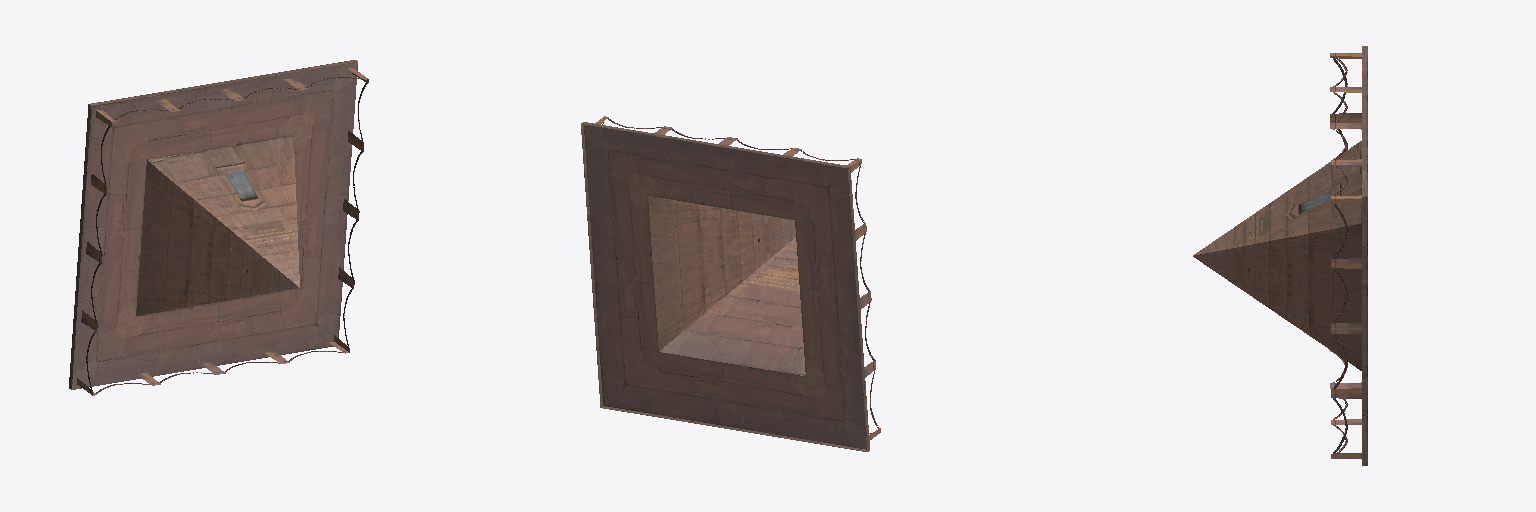
3 renders of one model, left to right at view 1: azimuth 30°, elevation 25°; view 2: azimuth 150°, elevation 25°; view 3: azimuth 270°, elevation 25°, orthographic.
Parts seen in each view (by area): view 1: DEU_603_KARLSRUHE_PYRAMID_L:DEU_603_KARLSRUHE_PYRAMID; view 2: DEU_603_KARLSRUHE_PYRAMID_L:DEU_603_KARLSRUHE_PYRAMID; view 3: DEU_603_KARLSRUHE_PYRAMID_L:DEU_603_KARLSRUHE_PYRAMID.
Part boxes in pixels (x1,y1,x2,y2): DEU_603_KARLSRUHE_PYRAMID_L:DEU_603_KARLSRUHE_PYRAMID: (69, 60, 368, 395); DEU_603_KARLSRUHE_PYRAMID_L:DEU_603_KARLSRUHE_PYRAMID: (581, 116, 880, 451); DEU_603_KARLSRUHE_PYRAMID_L:DEU_603_KARLSRUHE_PYRAMID: (1193, 46, 1367, 465).
Bounding box in the file's own units: 10.47 × 10.47 × 5.56.
Materials: 1 (1 with a texture image).